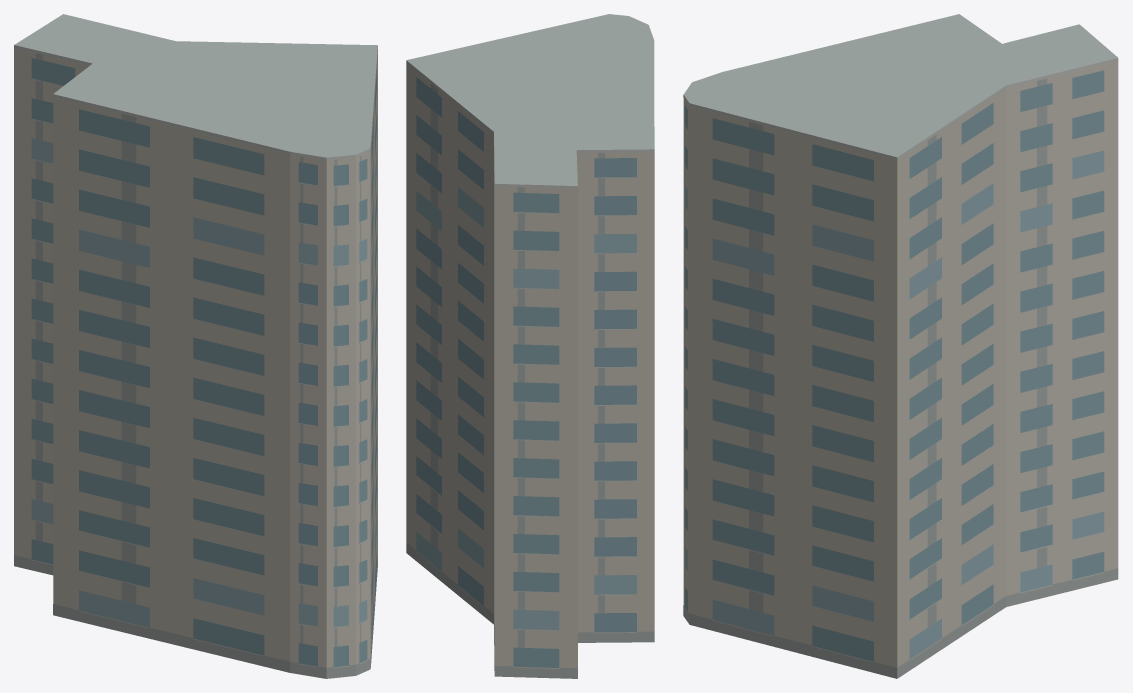
The model's file is residential-8cfd0a46-8361-43da-aab7-40b64e3f3990.glb.
3 views of the same model, side by side, from view 1: azimuth 30°, elevation 25°; view 2: azimuth 150°, elevation 25°; view 3: azimuth 270°, elevation 25° (orthographic). The views are drawn at different scales.
Visible parts, largest first — view 1: residential-8cfd0a46-8361-43da-aab7-40b64e3f3990.tmp; view 2: residential-8cfd0a46-8361-43da-aab7-40b64e3f3990.tmp; view 3: residential-8cfd0a46-8361-43da-aab7-40b64e3f3990.tmp.
Boxes of the visible parts, box(x1,y1,x2,y2) form: residential-8cfd0a46-8361-43da-aab7-40b64e3f3990.tmp: box(14, 14, 377, 678); residential-8cfd0a46-8361-43da-aab7-40b64e3f3990.tmp: box(406, 14, 654, 678); residential-8cfd0a46-8361-43da-aab7-40b64e3f3990.tmp: box(683, 14, 1118, 678).
Bounding box in the file's own units: 24.18 × 41 × 30.99.
